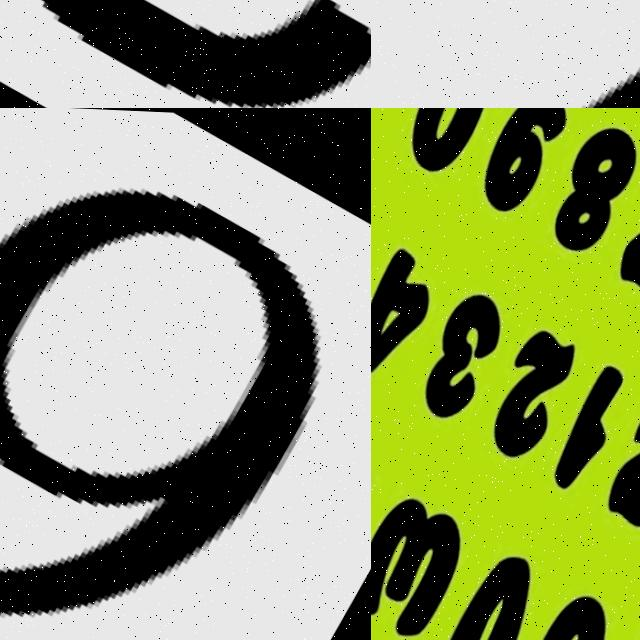0: (371, 108, 523, 216)
1: (531, 348, 640, 511)
2: (463, 310, 602, 476)
3: (392, 270, 534, 441)
4: (371, 218, 475, 423)
6: (0, 108, 371, 640)
7: (588, 143, 640, 325)
8: (516, 108, 640, 284)
9: (448, 108, 593, 240)
A: (0, 0, 371, 108)
Y: (371, 0, 640, 108)
